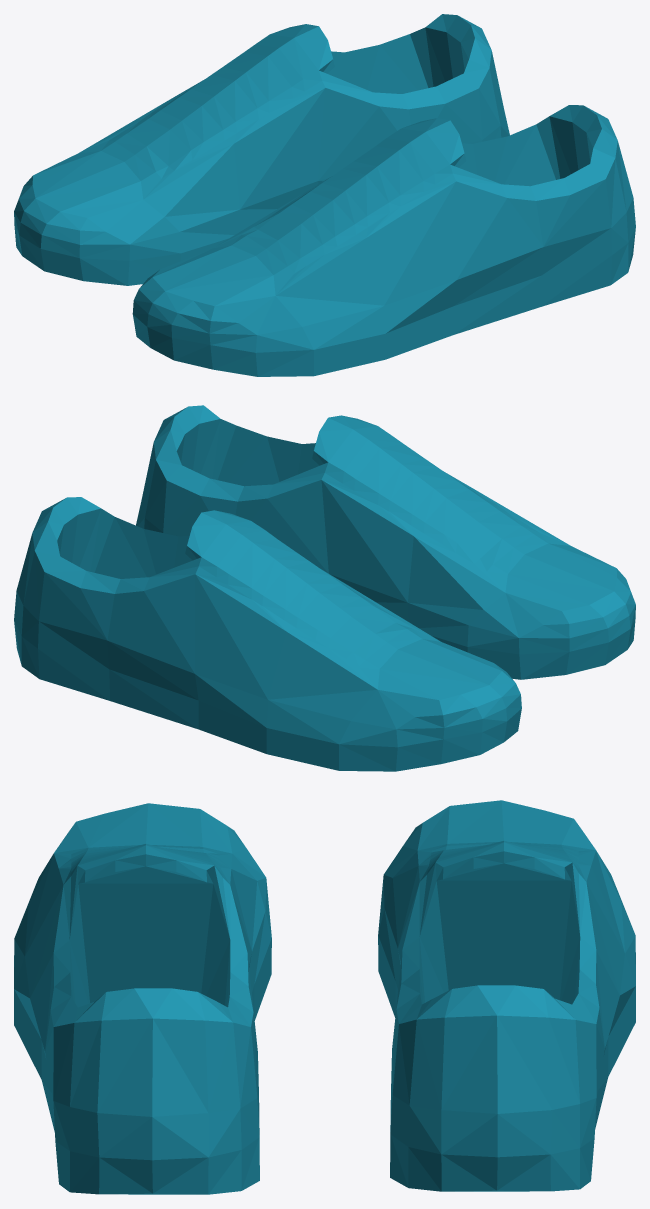
The model's file is dae.dae.
The picture shows the model from 3 angles, top to bottom: view 1: azimuth 30°, elevation 25°; view 2: azimuth 150°, elevation 25°; view 3: azimuth 270°, elevation 25°; orthographic projection. The views are drawn at different scales.
Visible parts, largest first — view 1: object1, object2; view 2: object2, object1; view 3: object1, object2.
Part boxes in pixels (bbox=[...]): object1: bbox=[132, 105, 635, 376]; object2: bbox=[14, 14, 509, 285]; object2: bbox=[14, 497, 521, 771]; object1: bbox=[136, 405, 635, 679]; object1: bbox=[14, 803, 271, 1194]; object2: bbox=[378, 800, 635, 1191].
Size of the model in its own units: 5.45 by 4.36 by 1.94.
